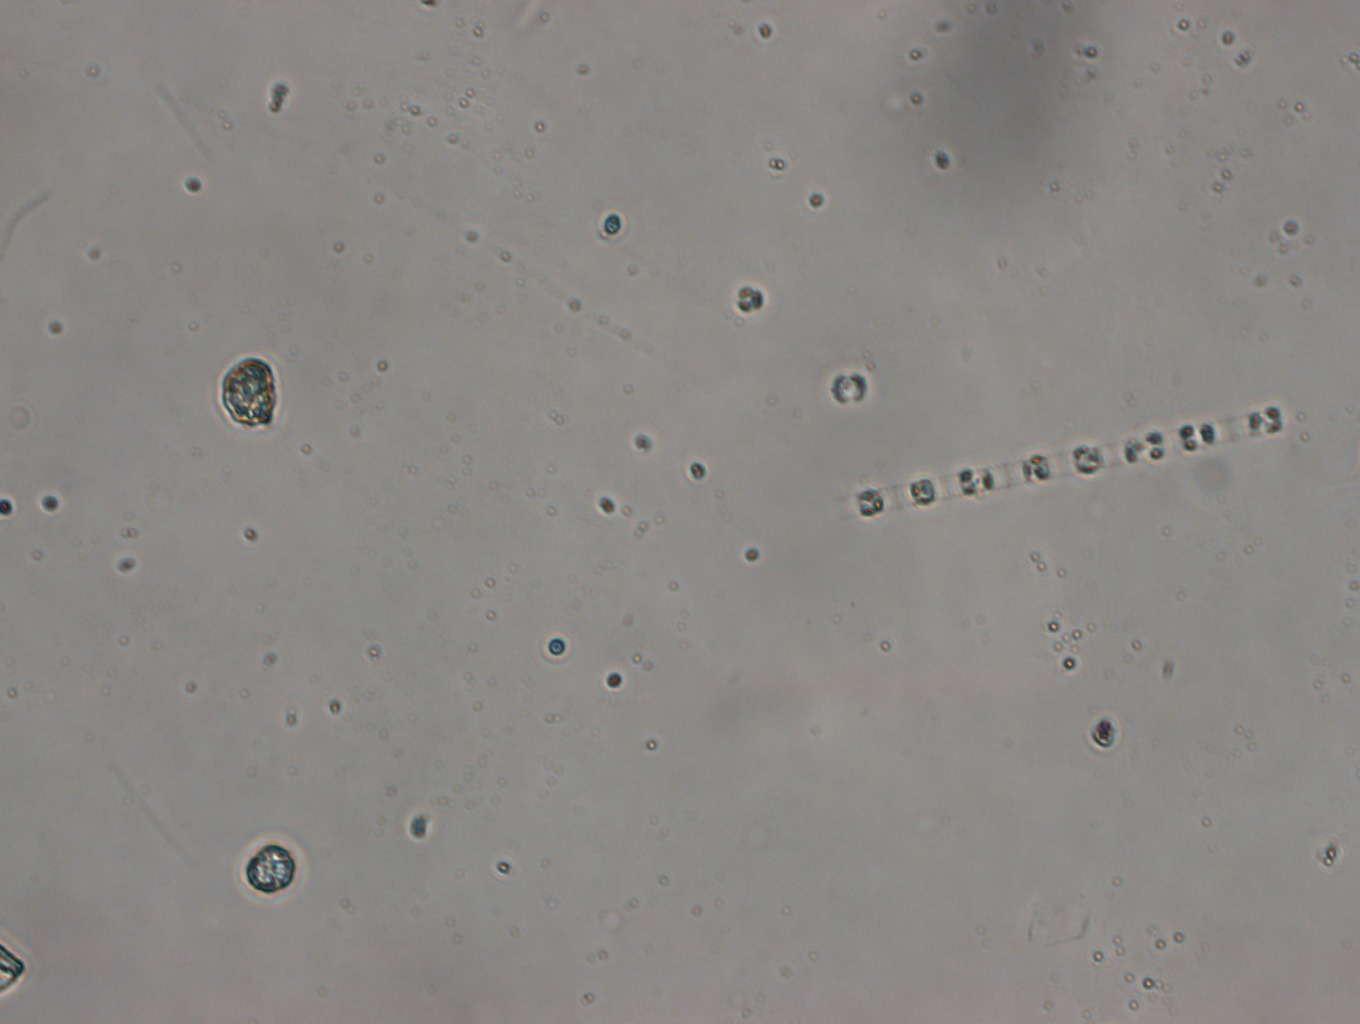skeletonema: (843, 399, 1300, 534)
